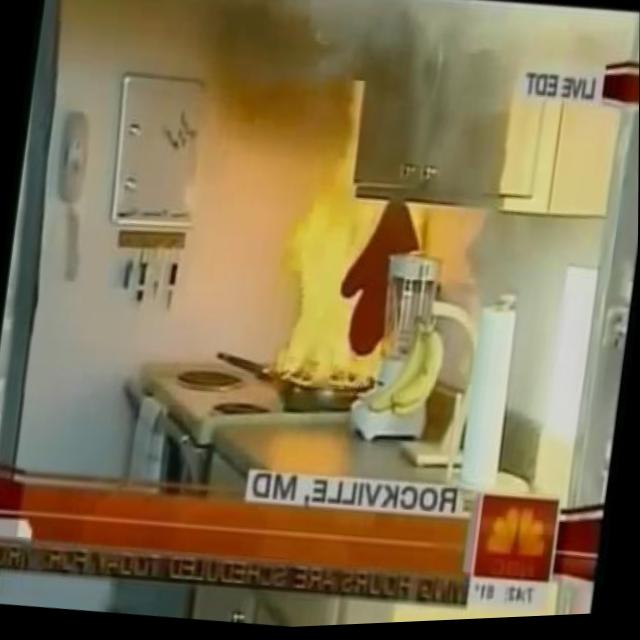fire: (267, 68, 436, 401)
